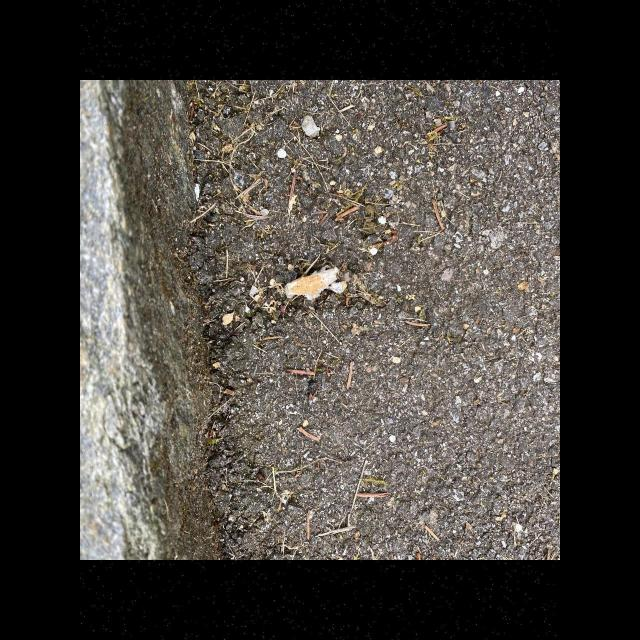cigarette: (284, 266, 347, 300)
